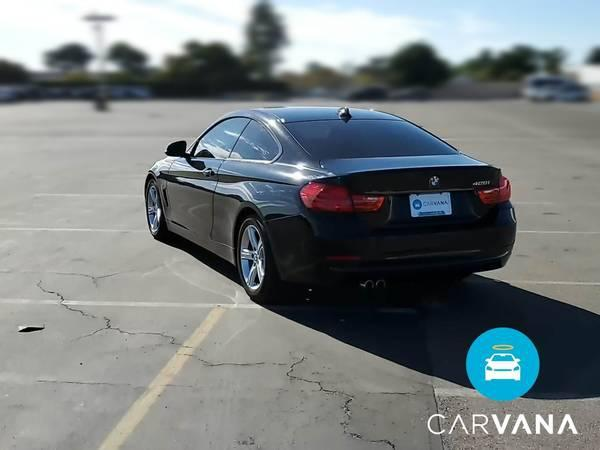Front_Fender: (146, 154, 178, 221)
Front_Left_Door: (169, 157, 224, 250)
Front_Left_Window: (187, 117, 251, 160)
Left_Taillight: (301, 179, 387, 212)
Rear_Bumper: (264, 201, 518, 282)
Rear_Fender: (209, 116, 346, 262)
Rear_Windshield: (281, 116, 458, 157)
Right_Taillight: (478, 175, 513, 203)
Roof: (188, 106, 405, 153)
Tailgate: (324, 152, 505, 230)
Wheel: (235, 217, 270, 297), (146, 183, 164, 238)
